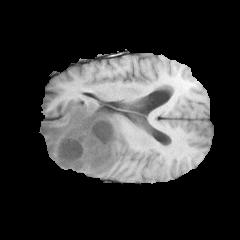glioma: (39, 102, 129, 173)
